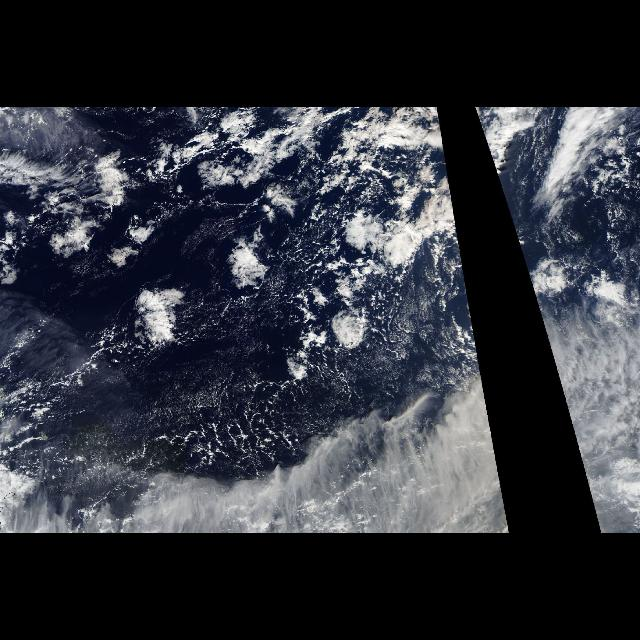Flower: (98, 149, 392, 359)
Gravel: (60, 348, 316, 474)
Sugar: (21, 321, 322, 474)
